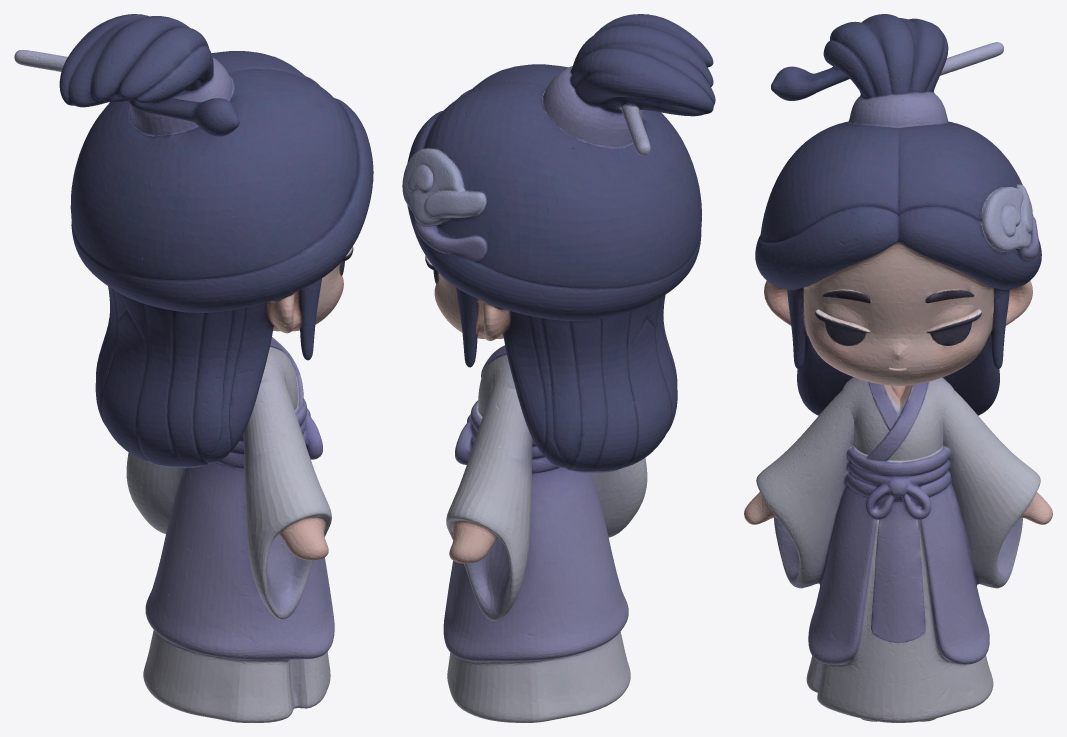
3 views of the same model, side by side, from view 1: azimuth 30°, elevation 25°; view 2: azimuth 150°, elevation 25°; view 3: azimuth 270°, elevation 25° (orthographic). The views are drawn at different scales.
Visible parts, largest first — view 1: tripo_node_5c64ea68-531c-493b-b523-2caae7c907c7; view 2: tripo_node_5c64ea68-531c-493b-b523-2caae7c907c7; view 3: tripo_node_5c64ea68-531c-493b-b523-2caae7c907c7.
Part boxes in pixels (x1,y1,x2,y2): tripo_node_5c64ea68-531c-493b-b523-2caae7c907c7: [14, 14, 373, 722]; tripo_node_5c64ea68-531c-493b-b523-2caae7c907c7: [402, 14, 715, 722]; tripo_node_5c64ea68-531c-493b-b523-2caae7c907c7: [744, 14, 1052, 722].
Size of the model in its own units: 0.4157 by 1 by 0.436.
Materials: 1 (1 with a texture image).
